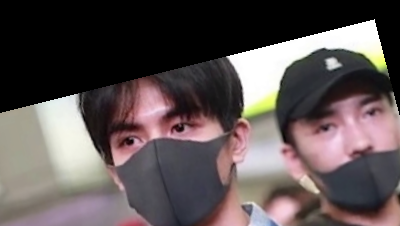mask_weared_incorrect: (263, 45, 400, 216)
